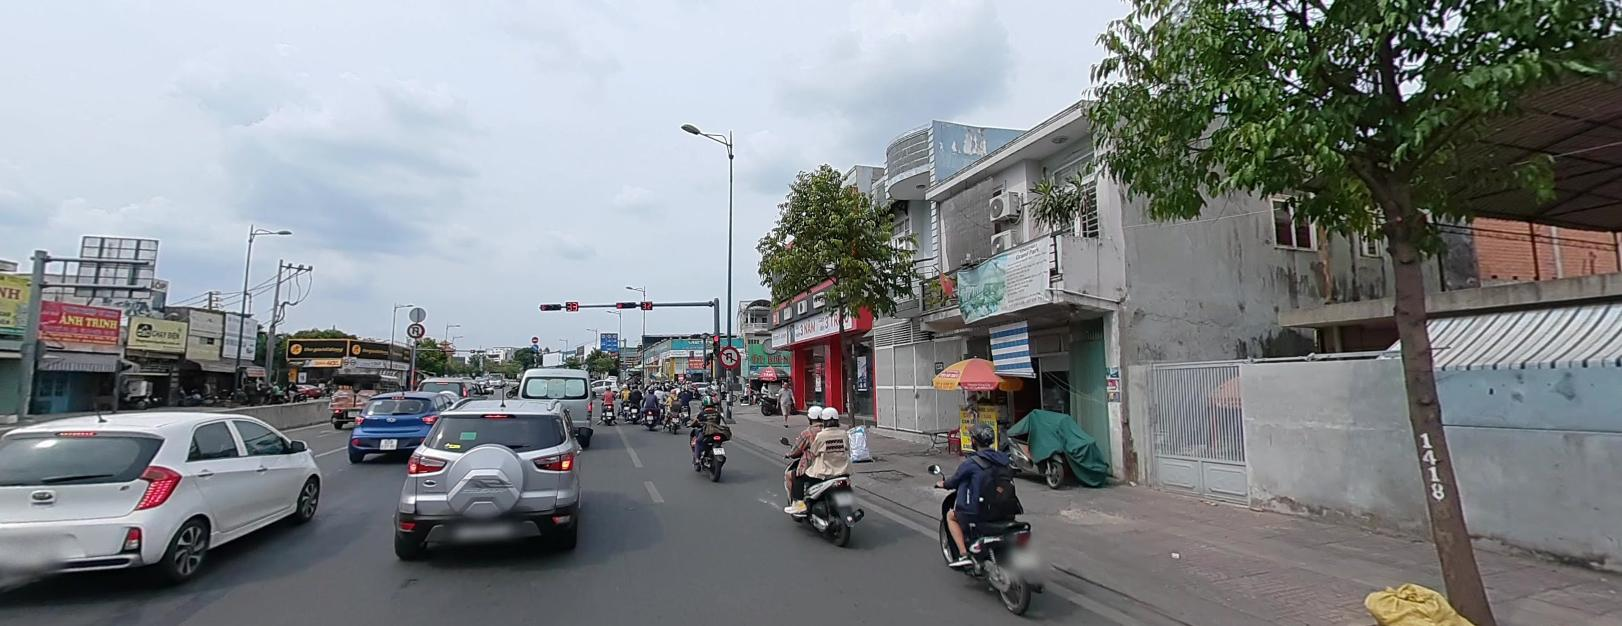Cam dung va do: (622, 363, 626, 368)
Cam nguoc chieu: (531, 334, 537, 341)
Cam re: (718, 344, 739, 368), (405, 322, 424, 337)
Gioi han toc do: (606, 332, 610, 336), (601, 333, 604, 336), (612, 332, 615, 335)
Hieu lenh: (531, 342, 538, 349)
